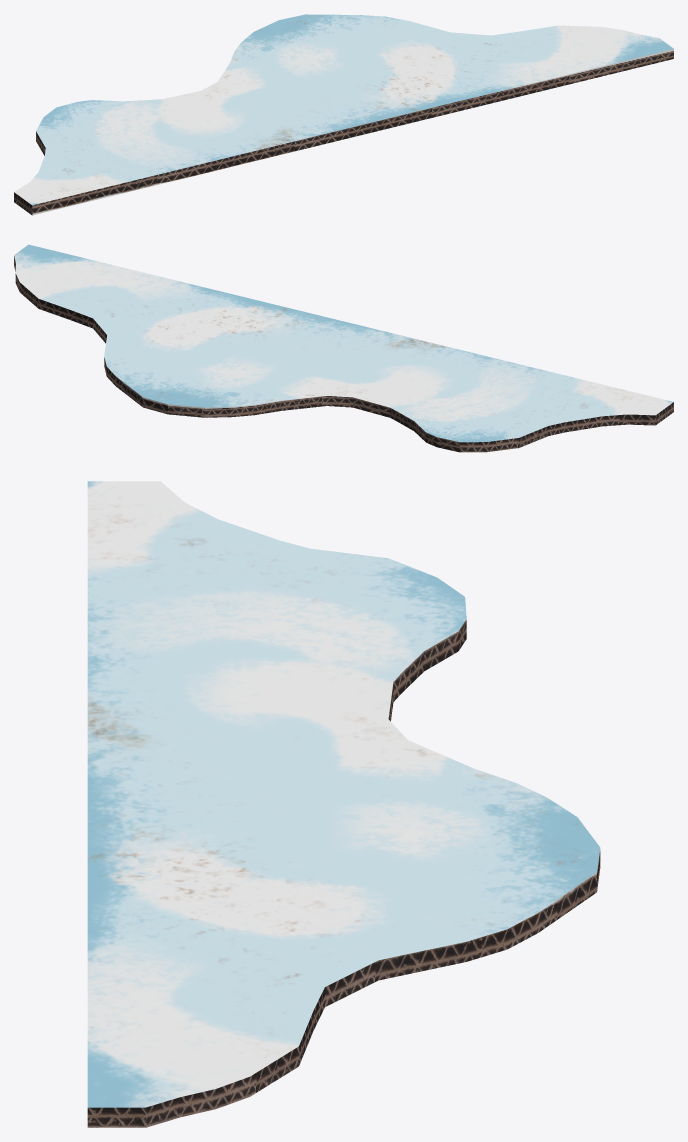
The model's file is WavePlane.fbx.
3 views of the same model, one above another, from view 1: azimuth 30°, elevation 25°; view 2: azimuth 150°, elevation 25°; view 3: azimuth 270°, elevation 25° (orthographic). The views are drawn at different scales.
Visible parts, largest first — view 1: WavePlane; view 2: WavePlane; view 3: WavePlane.
Boxes of the visible parts, x1,y1,x2,y2 form: WavePlane: (14,14,673,215); WavePlane: (14,244,673,452); WavePlane: (87,481,600,1127).
Size of the model in its own units: 200 by 3.01 by 69.16.
